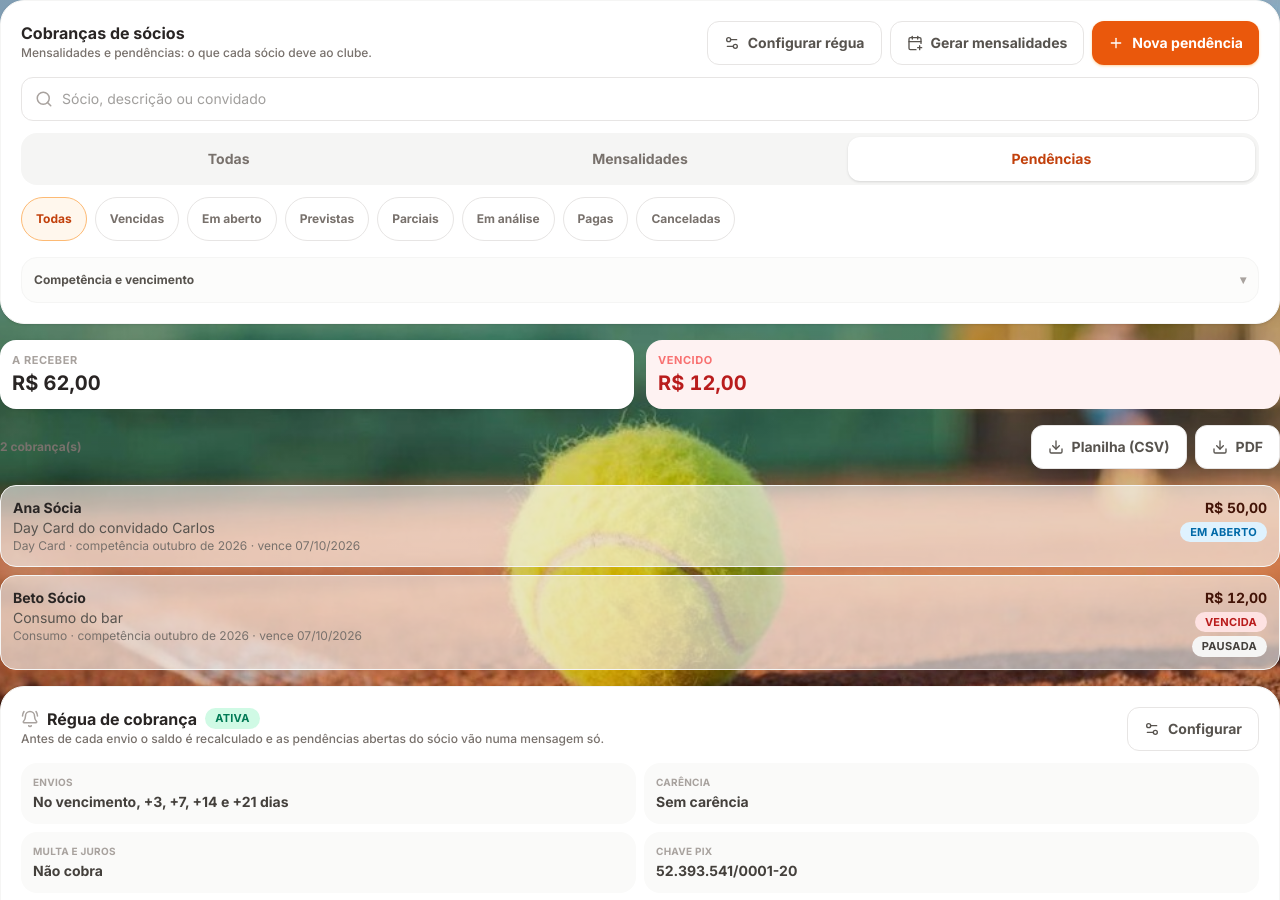
Test: Régua de pendências dentro da aba Pendências › "Configurar régua" abre a folha com o formulário; fechar some com ela
Expected: the text "Day Card do convidado Carlos" is shown, left=13, top=518, right=215, bottom=536
Expected: the field labelled "Dias da régua" is not shown
Click the button "Configurar régua": {"x": 794, "y": 43} left=707, top=21, right=882, bottom=65
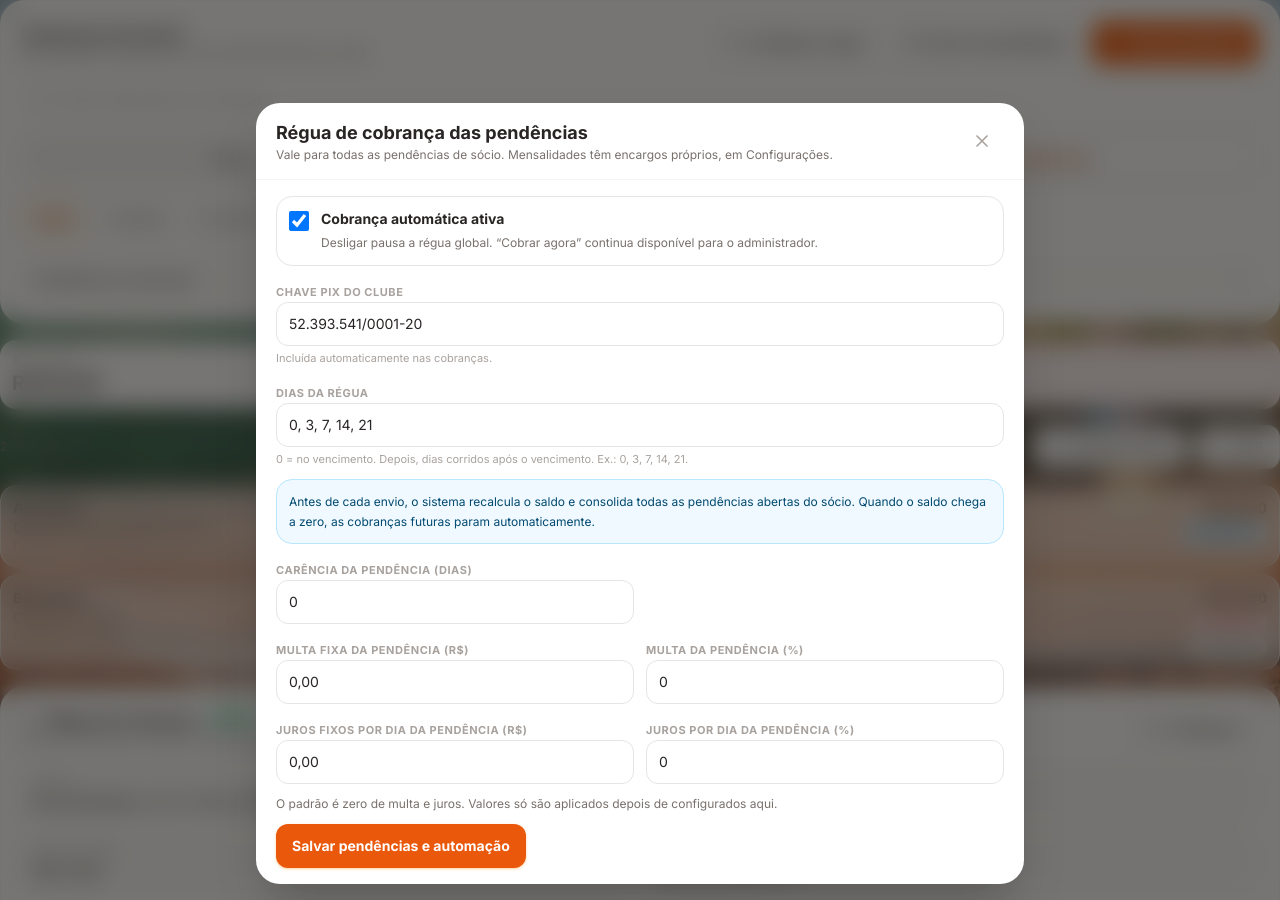
Expected: the field labelled "Dias da régua" holds "0, 3, 7, 14, 21", left=276, top=402, right=1004, bottom=446
Click the button named "Fechar": {"x": 982, "y": 141} left=960, top=119, right=1004, bottom=163
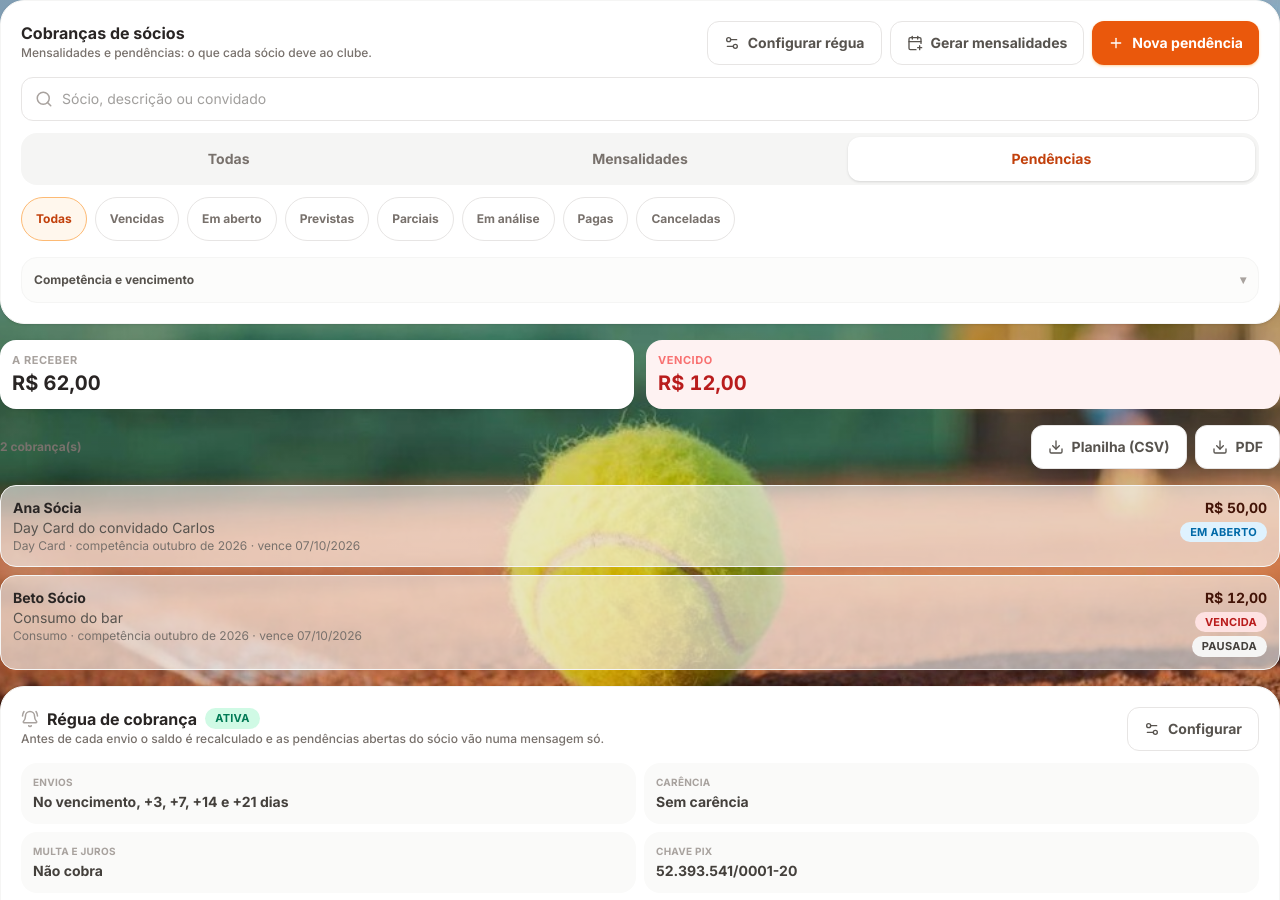
Expected: the text labelled "Dias da régua" is gone
